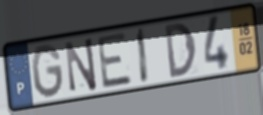4: (203, 14, 231, 75)
D: (163, 21, 199, 81)
E: (95, 30, 135, 91)
G: (30, 42, 66, 101)
I: (136, 26, 151, 87)
N: (63, 35, 99, 95)
